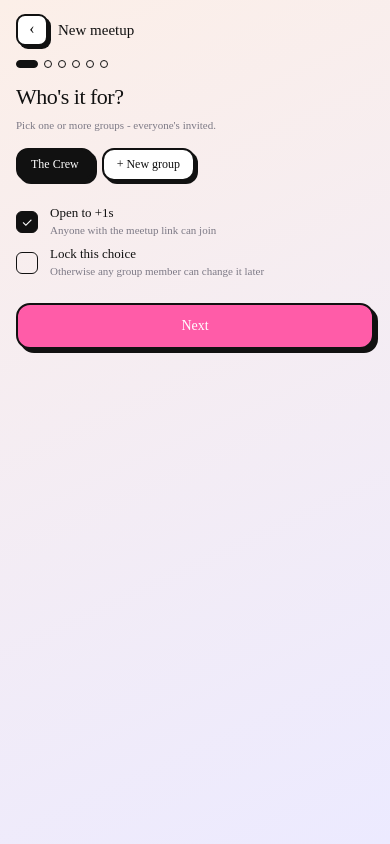
Test: submit/continue validity gating › a valid plan (sensible default deadlines) lets you continue past deadlines
The width and height of the screenshot is (390, 844).
expect the text "Who's it for?" is shown: met, box [16, 84, 123, 109]
Click the text "Next" at (195, 326), box [181, 318, 209, 334]
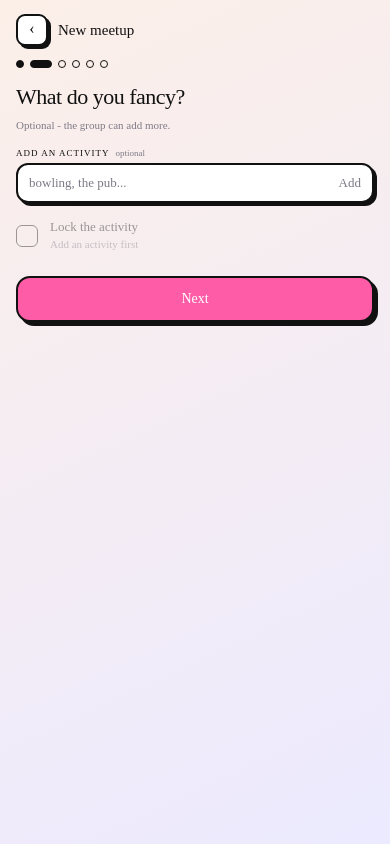
expect the text "What do you fancy?" is shown: met, box [16, 84, 185, 109]
Click the text "Next" at (195, 299), box [181, 291, 209, 307]
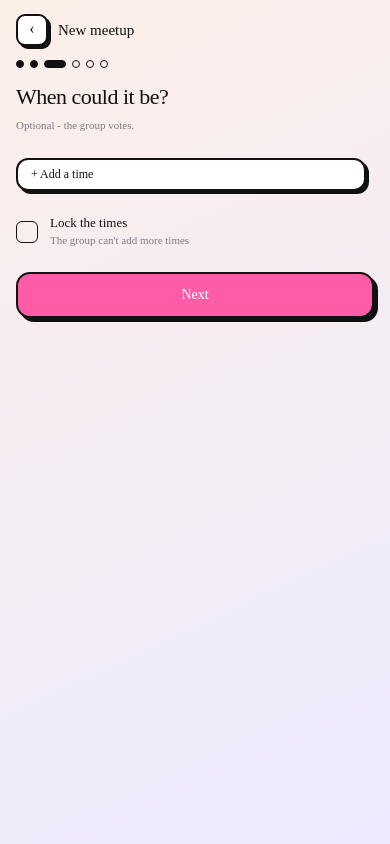
expect the text "When could it be?" is shown: met, box [16, 84, 168, 109]
Click the text "Next" at (195, 295), box [181, 287, 209, 303]
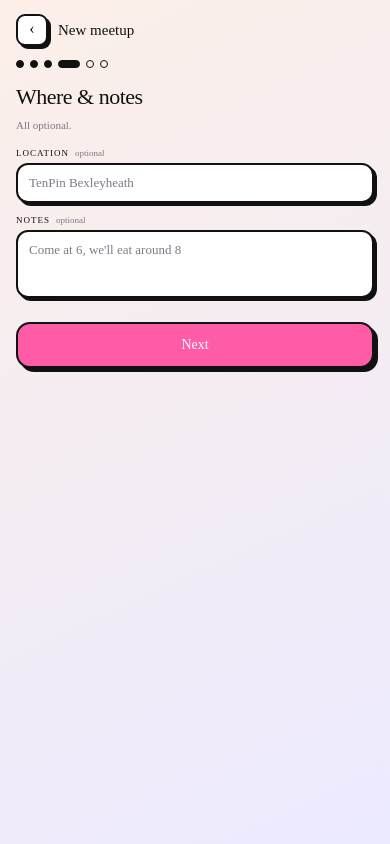
expect the text "Where & notes" is shown: met, box [16, 84, 143, 109]
Click the text "Next" at (195, 345), box [181, 337, 209, 353]
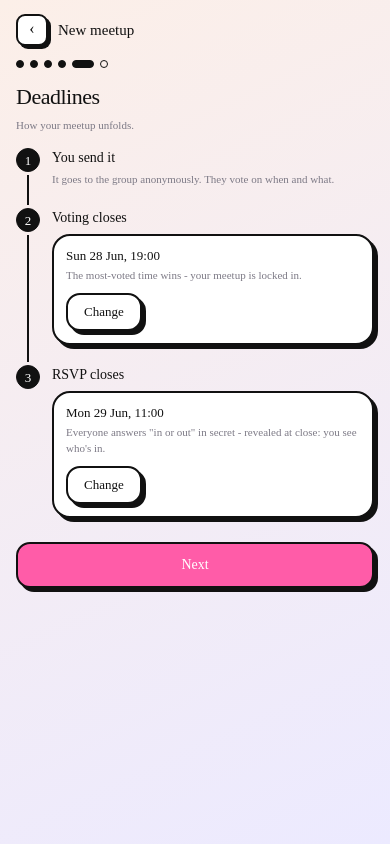
expect the text "Deadlines" is shown: met, box [16, 84, 100, 109]
Click the text "Next" at (195, 565), box [181, 557, 209, 573]
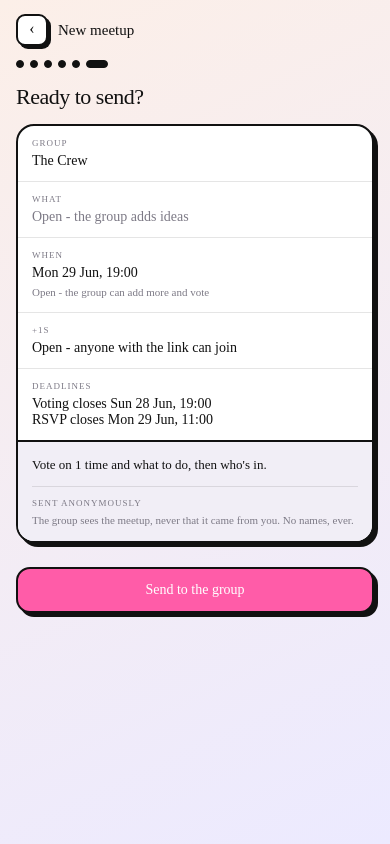
expect the text "Ready to send?" is shown: met, box [16, 84, 143, 109]
